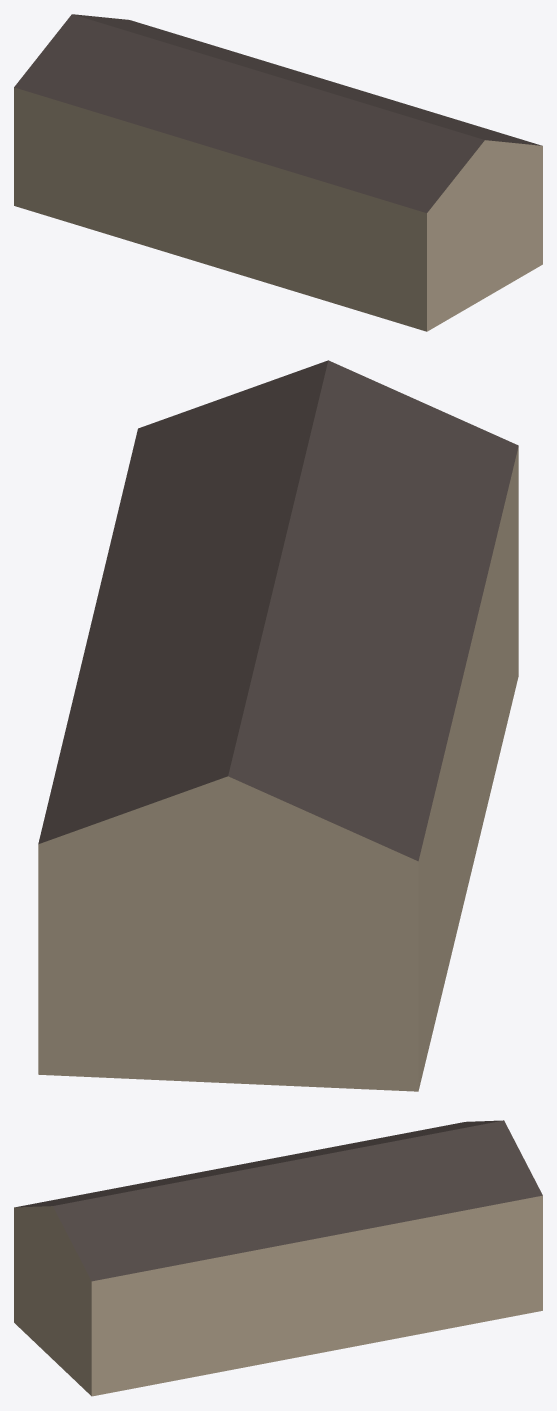
The picture shows the model from 3 angles, top to bottom: view 1: azimuth 30°, elevation 25°; view 2: azimuth 150°, elevation 25°; view 3: azimuth 270°, elevation 25°; orthographic projection. The views are drawn at different scales.
Visible parts, largest first — view 1: HP-w1199439518; view 2: HP-w1199439518; view 3: HP-w1199439518.
Part boxes in pixels (<box>): HP-w1199439518: <box>14,14,542,331</box>; HP-w1199439518: <box>38,360,518,1091</box>; HP-w1199439518: <box>14,1120,542,1396</box>.
Size of the model in its own units: 26.76 by 12 by 37.49.
